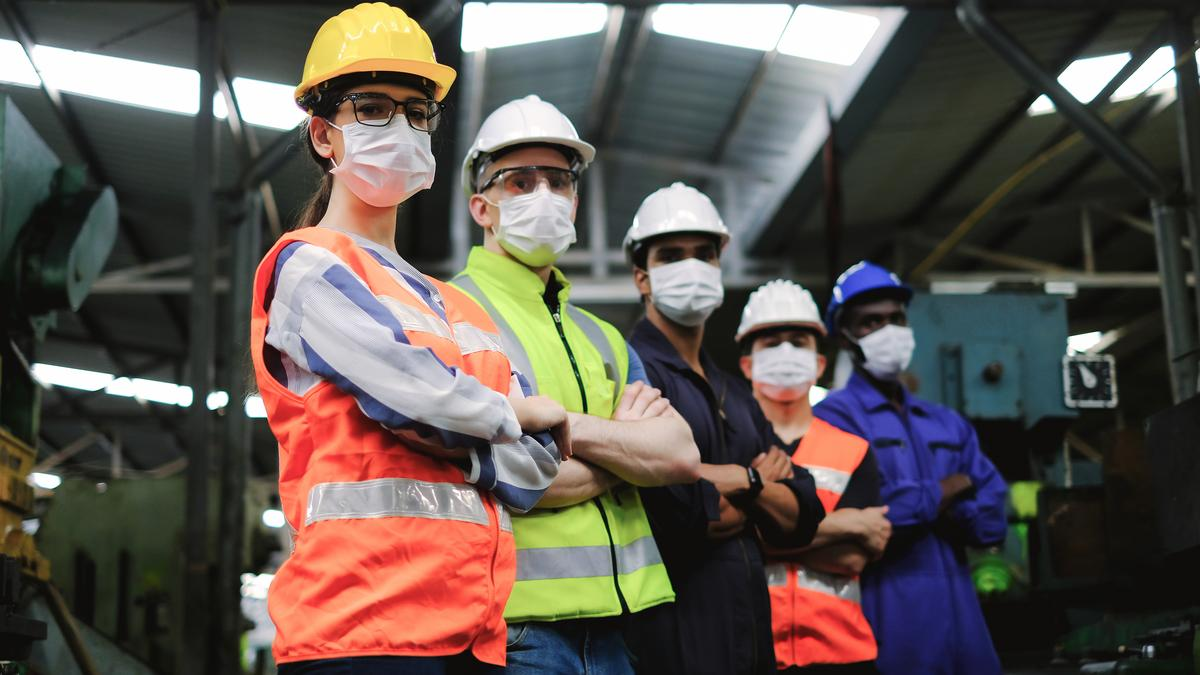Safety Helmet: (288, 1, 461, 222), (461, 82, 601, 279), (613, 164, 736, 334), (828, 235, 939, 397), (729, 270, 833, 427)
